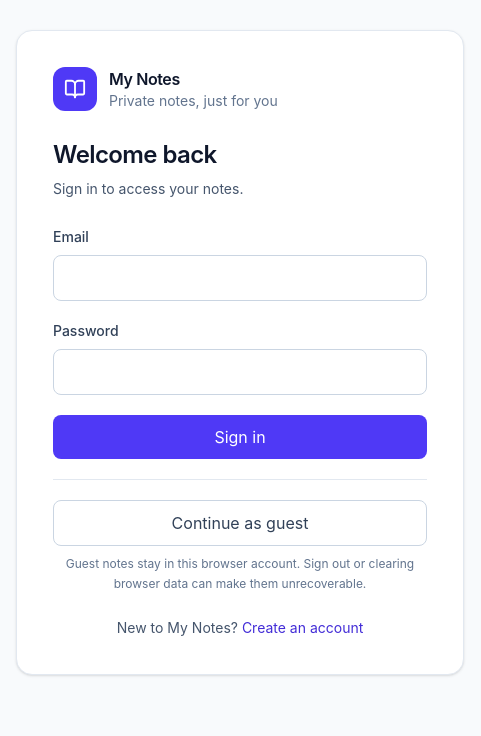
Test: AuthScreen › keeps email confirmation enabled and explains the next step after sign-up
Step 1. Click the button "Create an account" → (303, 628), box [242,618,363,638]
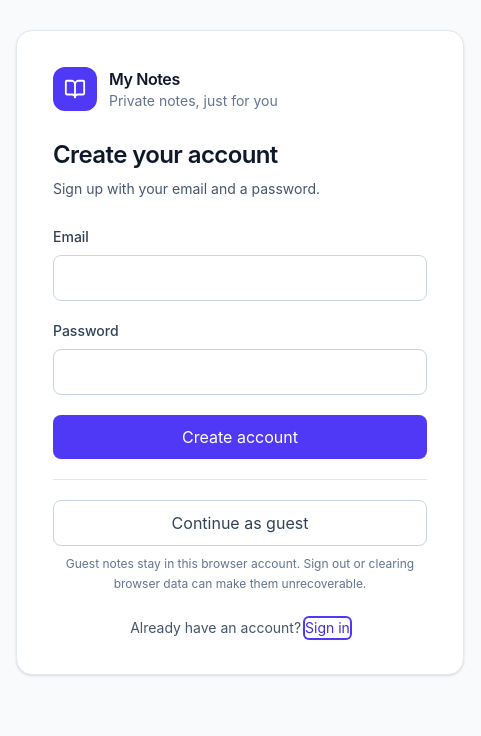
Step 2. Type "user@example.com" into the field labelled "Email" → (240, 278), box [53,254,427,300]
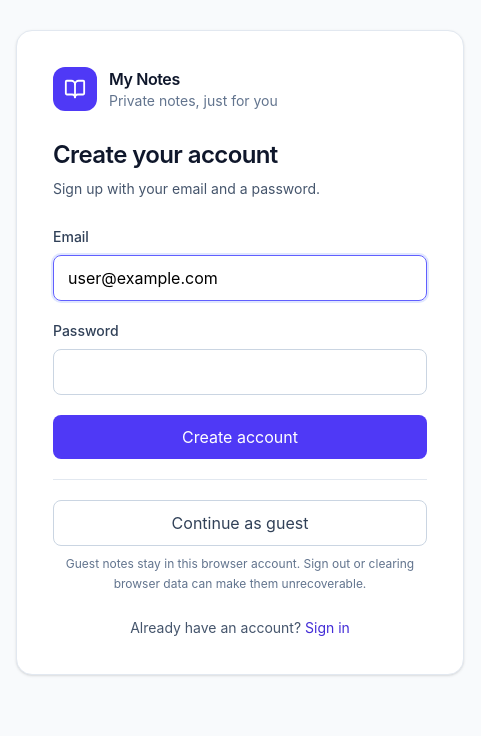
Step 3. Type "password123" into the password field labelled "Password" → (240, 372), box [53,348,427,394]
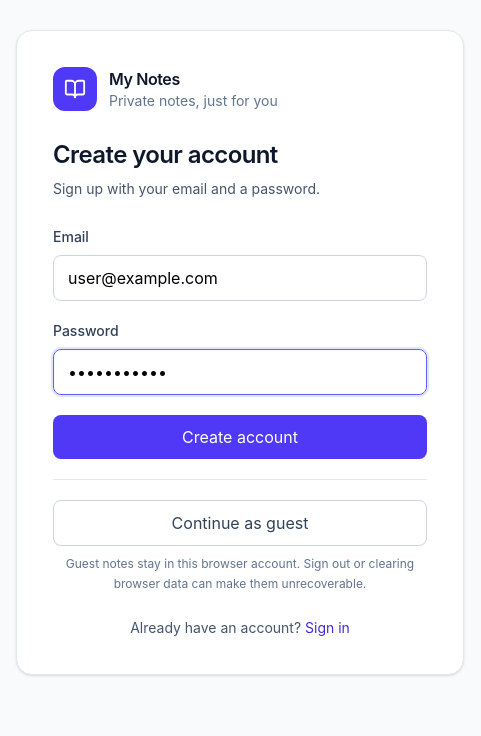
Step 4. Click the button "Create account" → (240, 436), box [53,414,427,458]
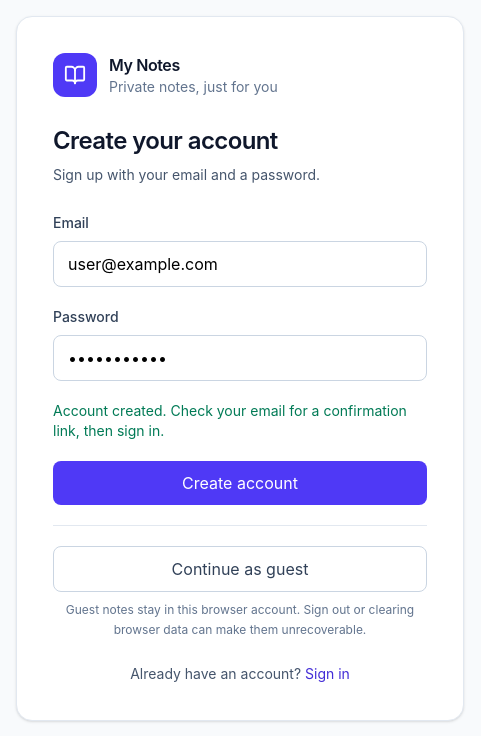
expect the message shows "Check your email for a confirmation link": met, box [53,402,407,439]
